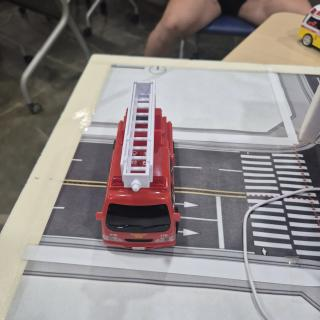Fire_truck: (96, 80, 180, 250)
